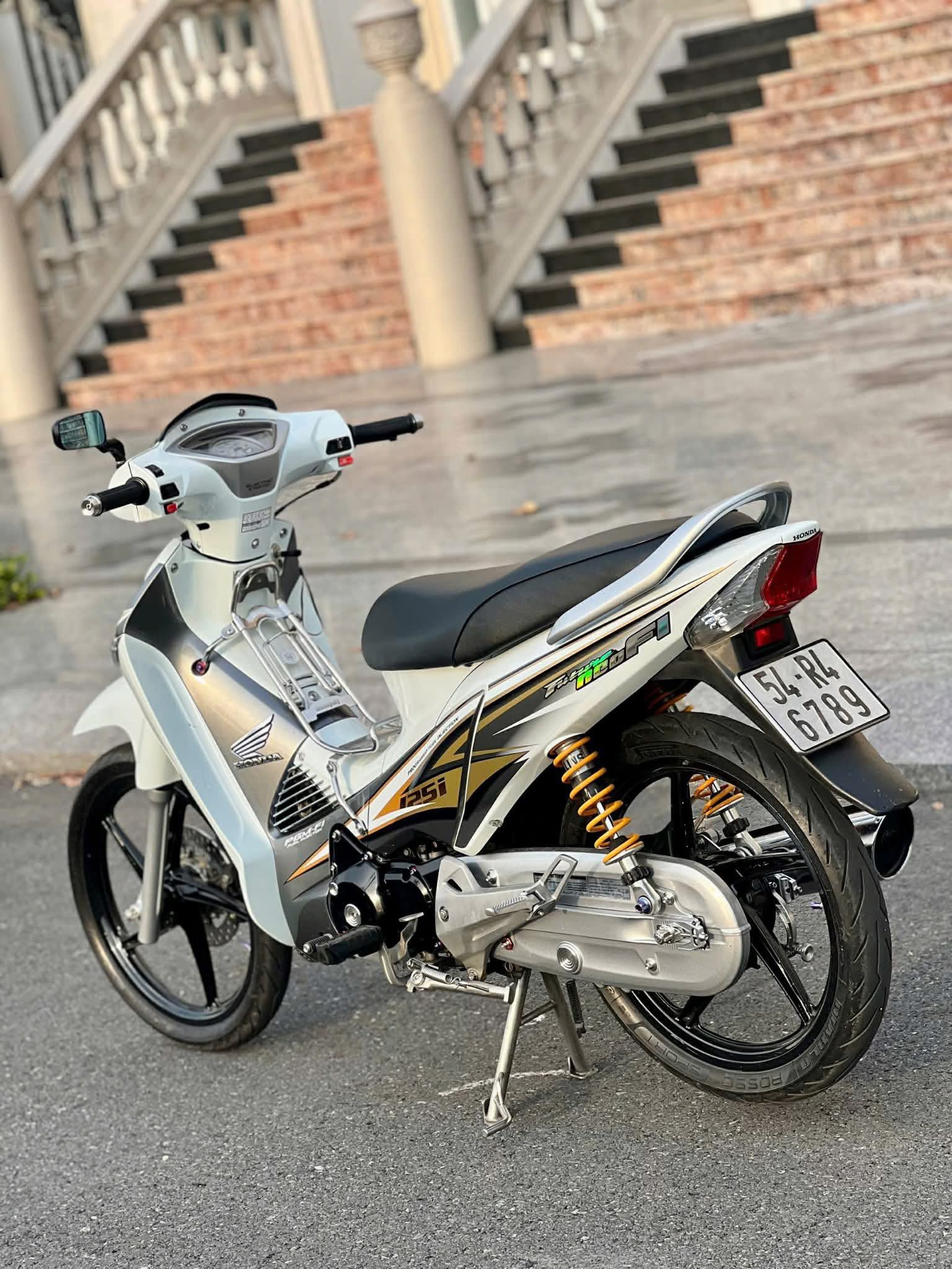bien_so: (730, 627, 898, 765)
